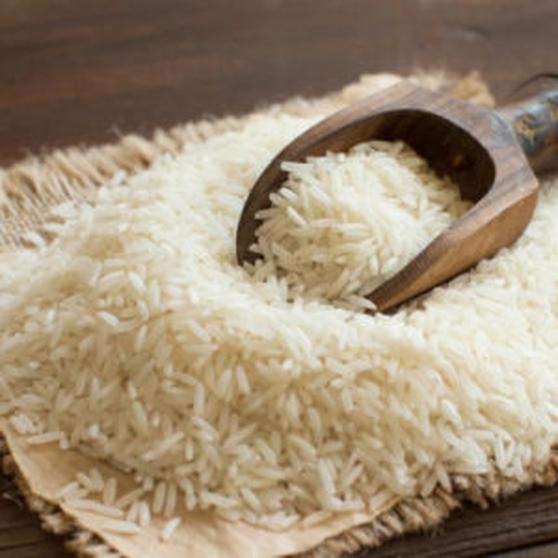rice: (103, 253, 498, 455)
